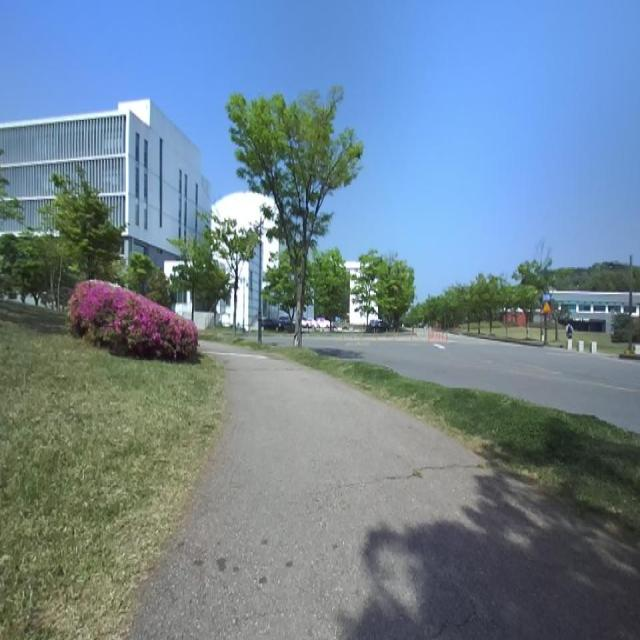sidewalk: (134, 344, 640, 639)
